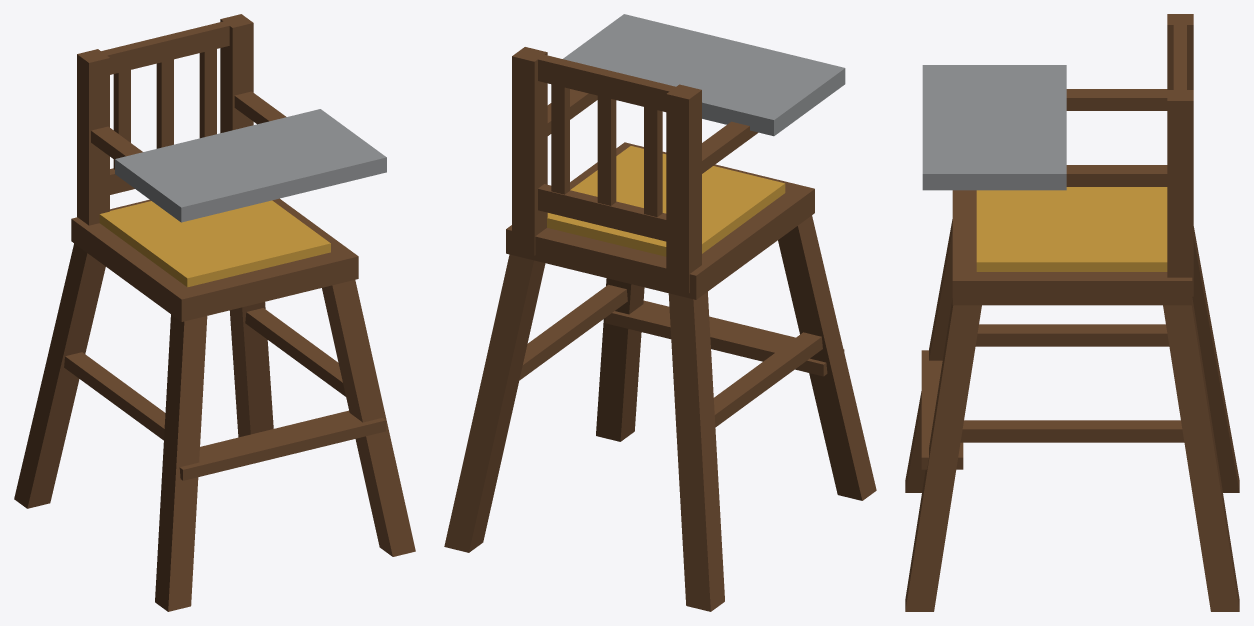
File: FN_Chair_High.obj
3 views of the same model, side by side, from view 1: azimuth 30°, elevation 25°; view 2: azimuth 150°, elevation 25°; view 3: azimuth 270°, elevation 25° (orthographic). The views are drawn at different scales.
Parts seen in each view (by area): view 1: FN_Chair_High; view 2: FN_Chair_High; view 3: FN_Chair_High.
Part boxes in pixels (x1,y1,x2,y2): FN_Chair_High: (14,14,415,611); FN_Chair_High: (444,14,876,611); FN_Chair_High: (905,14,1239,611).
Bounding box in the file's own units: 0.518 × 0.9 × 0.558.
1 material, 1 textured.
